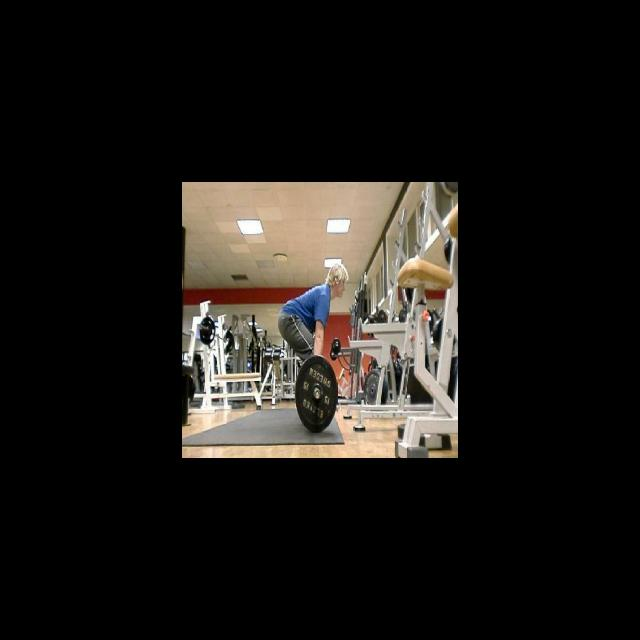barbell: (293, 353, 339, 436)
